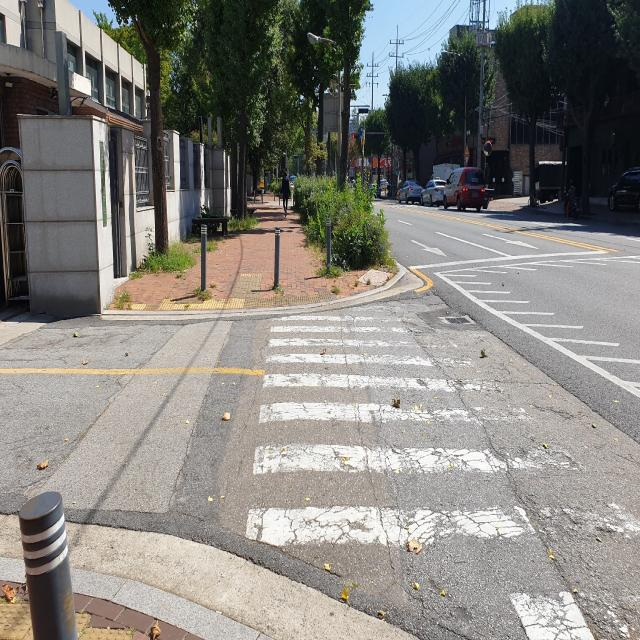횡단보도: (243, 313, 640, 552)
